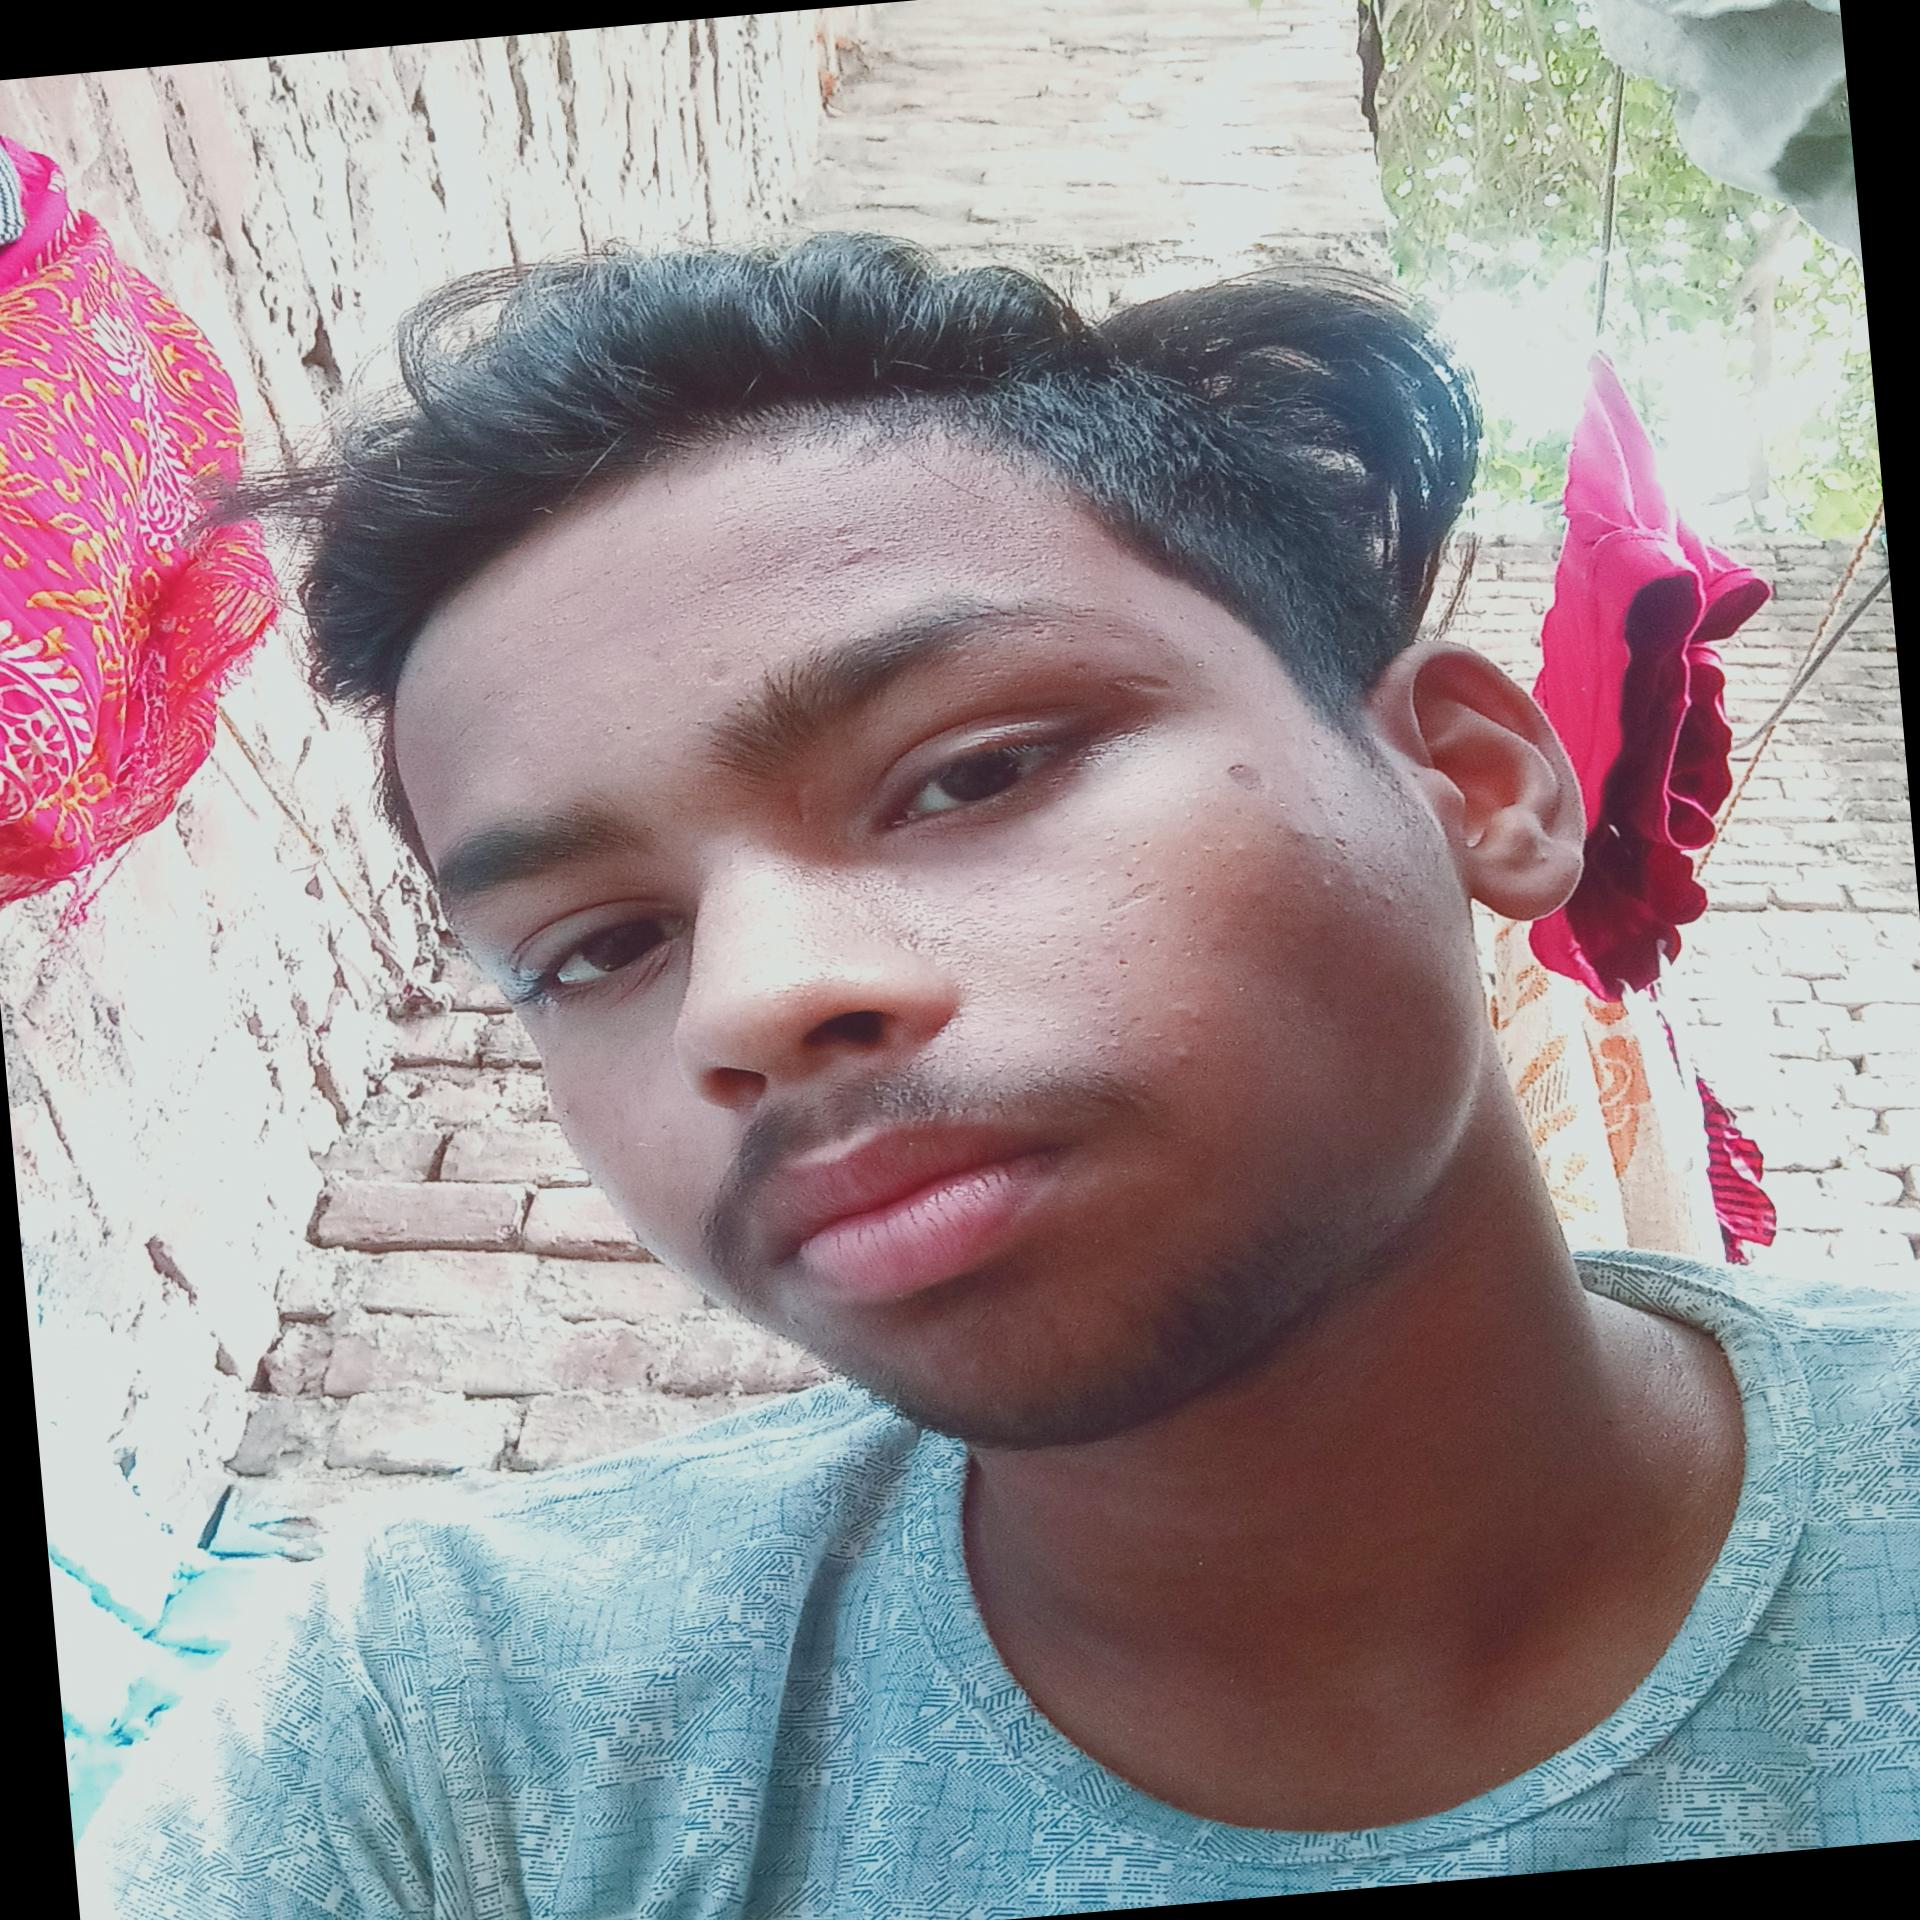Acne: (832, 533, 884, 575), (1036, 1308, 1087, 1347), (964, 1350, 1002, 1384), (1166, 1041, 1197, 1071)
Blackhead: (1018, 830, 1210, 990), (1197, 782, 1368, 879), (1319, 807, 1414, 916), (1069, 983, 1152, 1055)
Dark Circles: (872, 767, 1106, 874)
